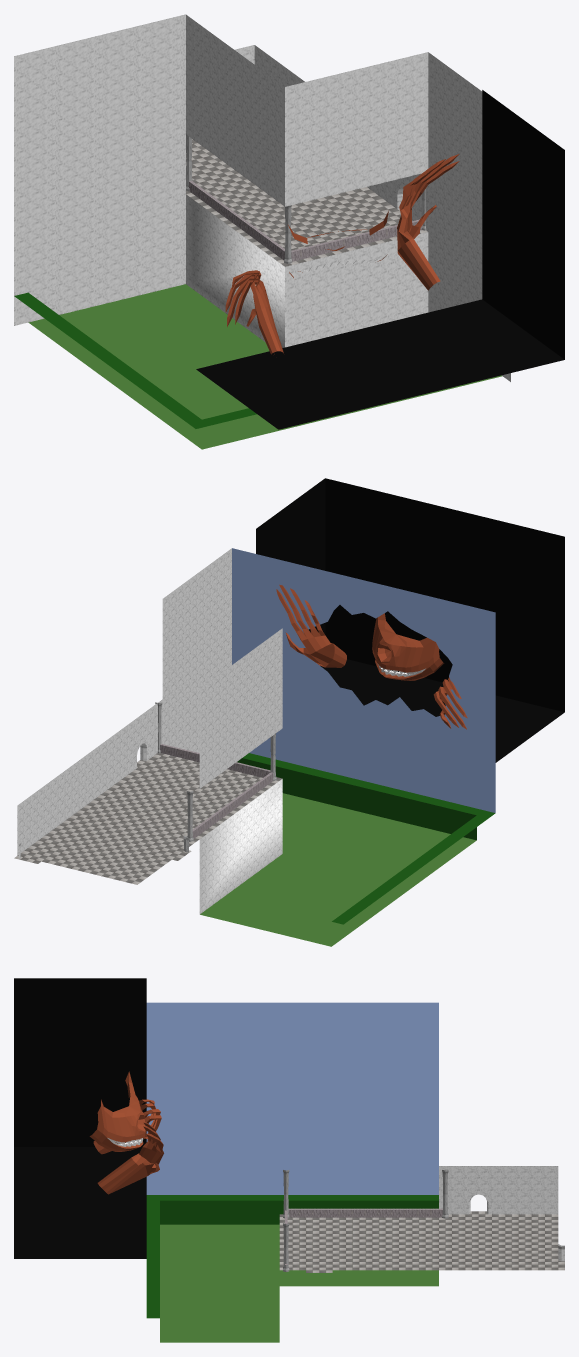
File: Room17.glb
3 views of the same model, one above another, from view 1: azimuth 30°, elevation 25°; view 2: azimuth 150°, elevation 25°; view 3: azimuth 270°, elevation 25° (orthographic). The views are drawn at different scales.
Parts seen in each view (by area): view 1: Walls.001, SpaceBox, Grass, Floor, Demon, Hedge, Fence, Columns.002; view 2: SpaceBox, Sky, Walls.001, Grass, Floor, Hedge, Demon, Fence, Columns.002; view 3: Sky, SpaceBox, Grass, Floor, Hedge, Walls.001, Demon, Fence, Columns.002.
Boxes of the visible parts, bbox=[...] form: Walls.001: bbox=[14, 14, 510, 381]; SpaceBox: bbox=[196, 90, 564, 429]; Grass: bbox=[28, 284, 502, 449]; Floor: bbox=[186, 139, 427, 266]; Demon: bbox=[225, 154, 459, 354]; Hedge: bbox=[14, 292, 256, 428]; Fence: bbox=[189, 180, 422, 261]; Columns.002: bbox=[186, 134, 426, 263]; SpaceBox: bbox=[256, 478, 564, 762]; Sky: bbox=[232, 548, 495, 812]; Walls.001: bbox=[17, 548, 282, 914]; Grass: bbox=[200, 793, 476, 946]; Floor: bbox=[14, 753, 282, 884]; Hedge: bbox=[237, 753, 495, 924]; Demon: bbox=[276, 584, 467, 729]; Fence: bbox=[160, 744, 273, 838]; Columns.002: bbox=[155, 702, 276, 841]; Sky: bbox=[146, 1002, 438, 1194]; SpaceBox: bbox=[14, 978, 146, 1258]; Grass: bbox=[160, 1224, 438, 1342]; Floor: bbox=[279, 1211, 564, 1272]; Hedge: bbox=[146, 1195, 438, 1318]; Walls.001: bbox=[439, 1166, 564, 1261]; Demon: bbox=[89, 1071, 163, 1194]; Fence: bbox=[285, 1208, 442, 1264]; Columns.002: bbox=[283, 1170, 448, 1271].
Size of the model in its own units: 22.5 by 20 by 41.5.
10 materials, 5 textured.
